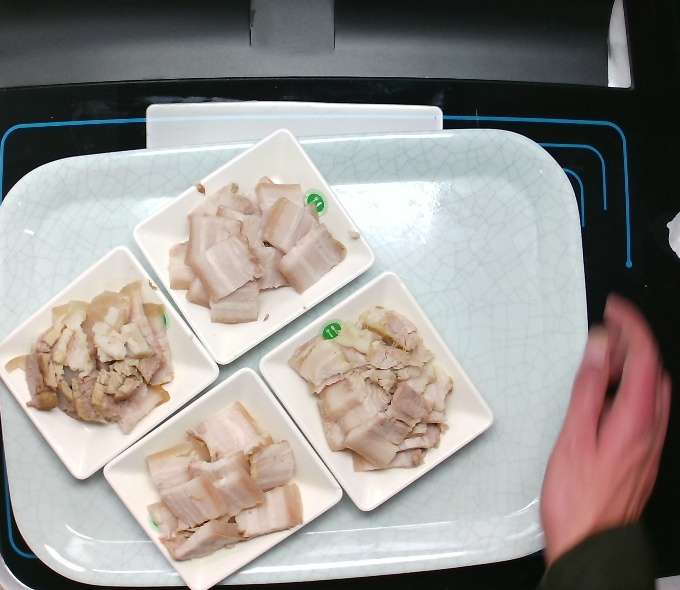wcq-BaiQieRou: (20, 284, 179, 444), (149, 411, 308, 571), (301, 314, 460, 474), (172, 167, 331, 327)
